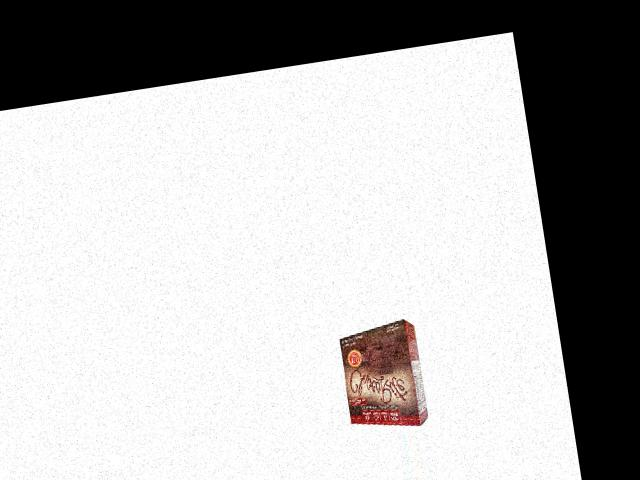chocolate: (334, 317, 428, 433)
